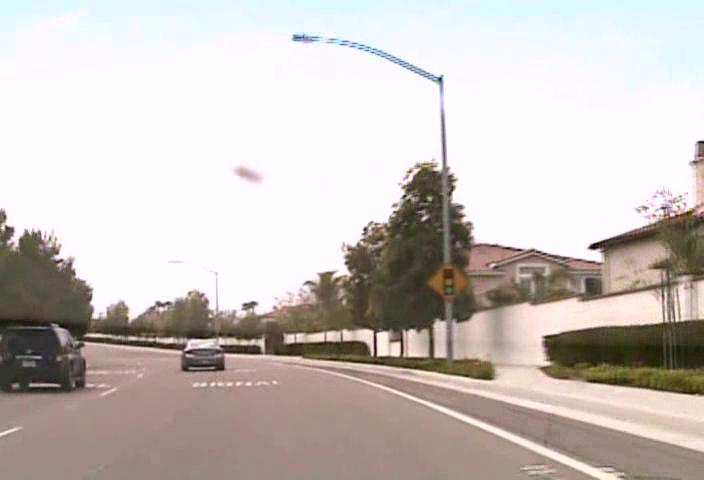signalAhead: (427, 261, 469, 303)
